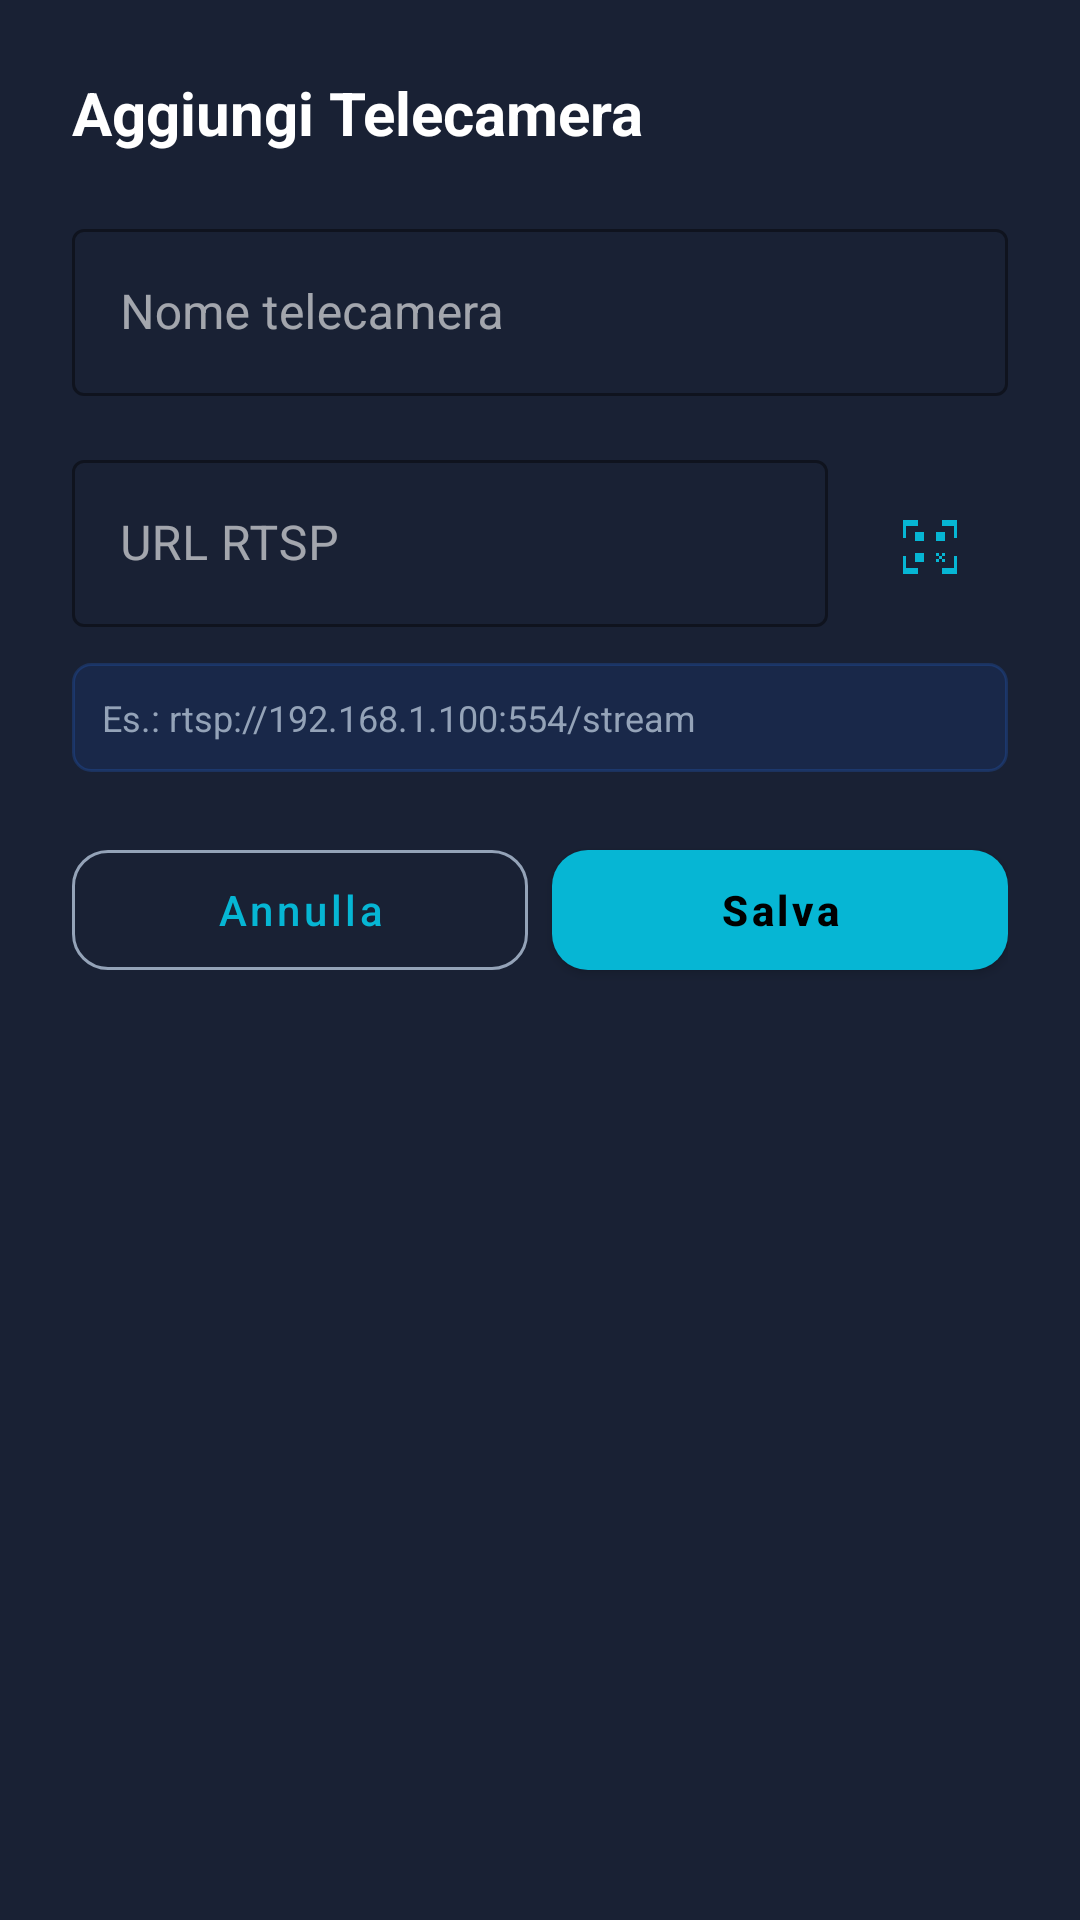

Locate icon controls on the screen. Image size 1080×1920, boxes as (x1, y1, x2, y2).
Scansiona QR Code: (903, 520, 957, 574)
